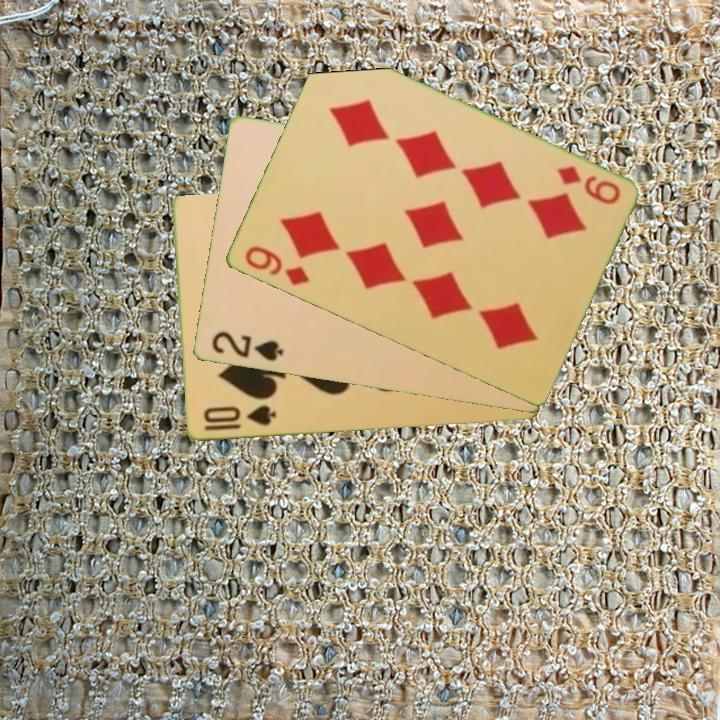10s: (199, 402, 279, 434)
2s: (208, 328, 286, 365)
9d: (240, 242, 312, 289), (553, 162, 623, 208)
